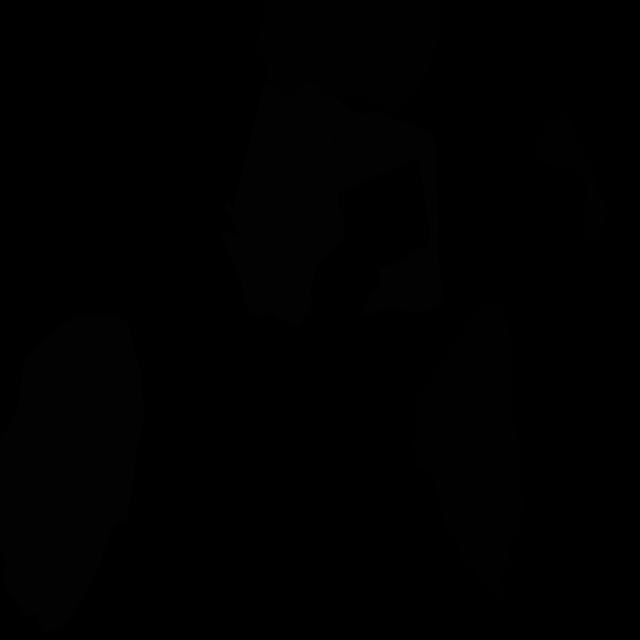cardboard: (0, 314, 146, 633), (285, 82, 442, 315), (233, 82, 334, 253), (221, 198, 313, 327)
rigid_plastic: (412, 302, 524, 601), (256, 0, 441, 112), (534, 113, 606, 241)
